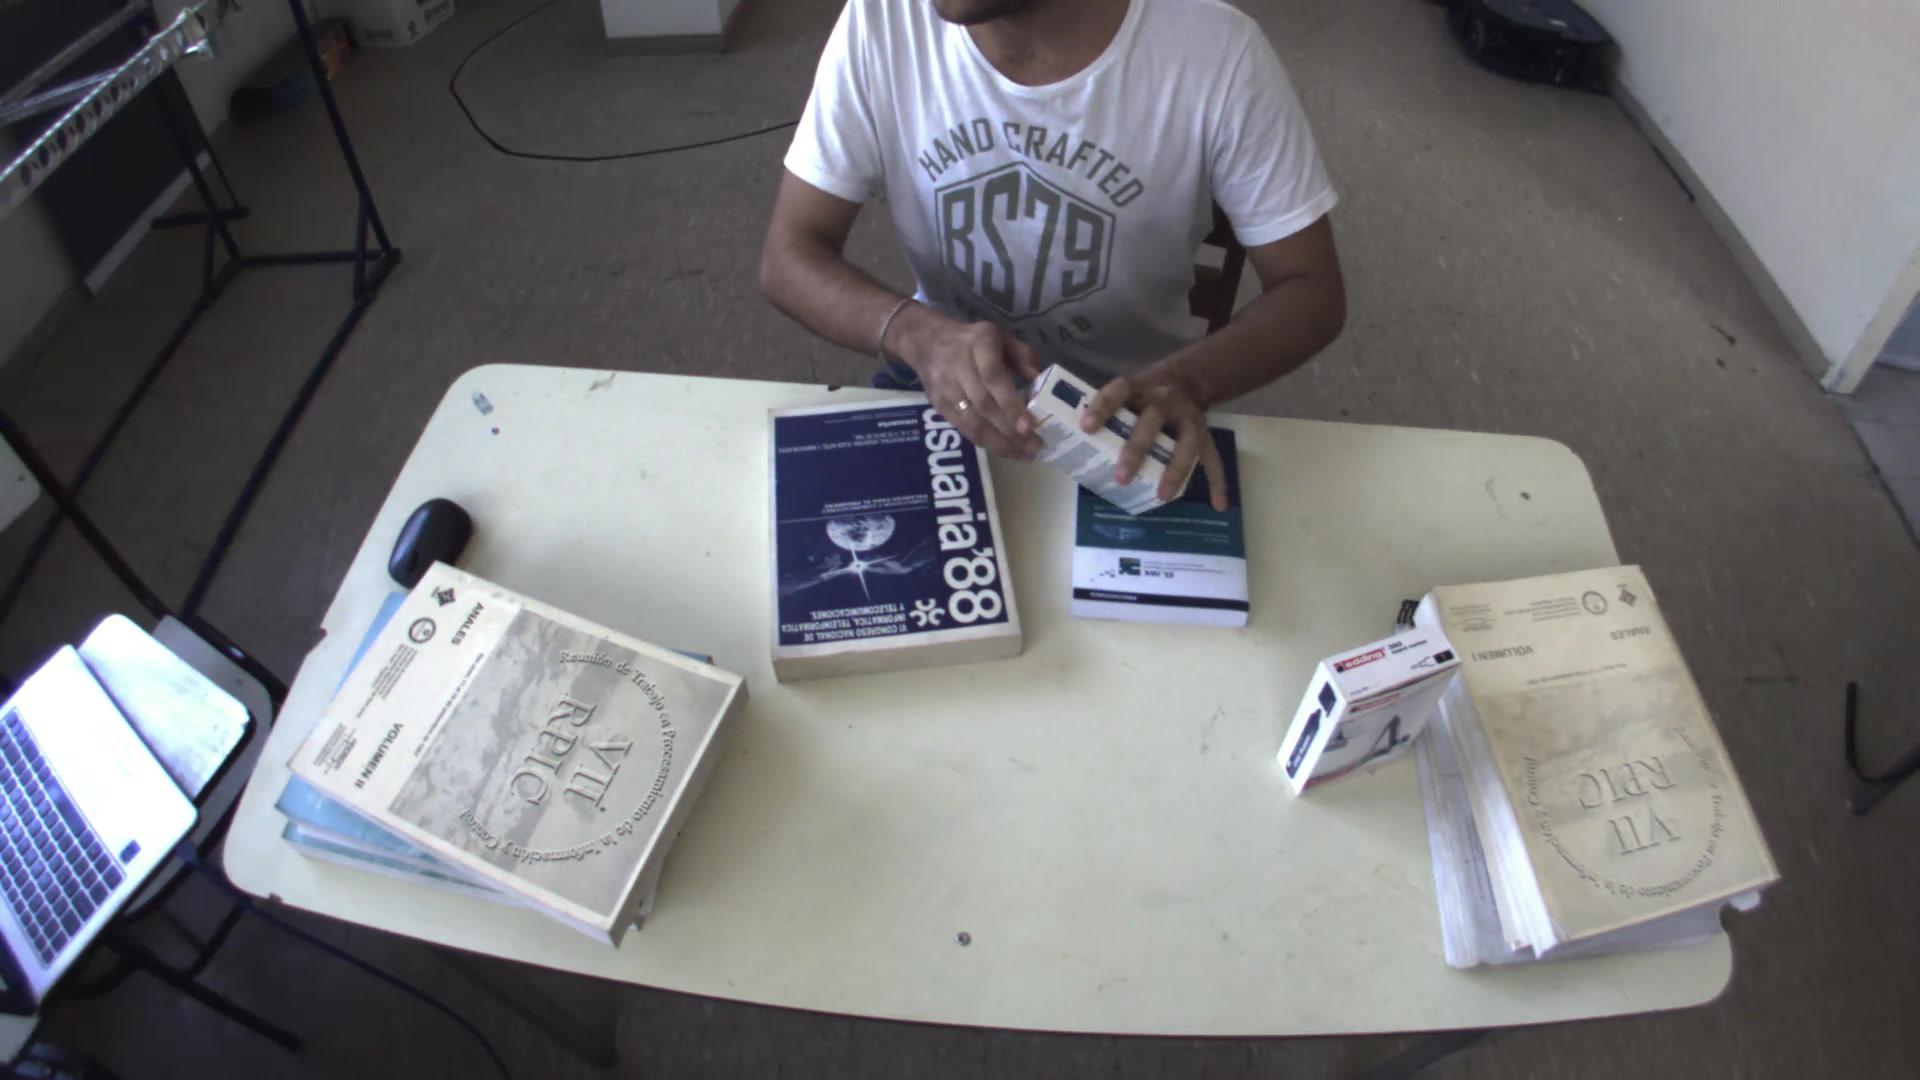hand: (1073, 345, 1245, 516), (893, 299, 1046, 454)
